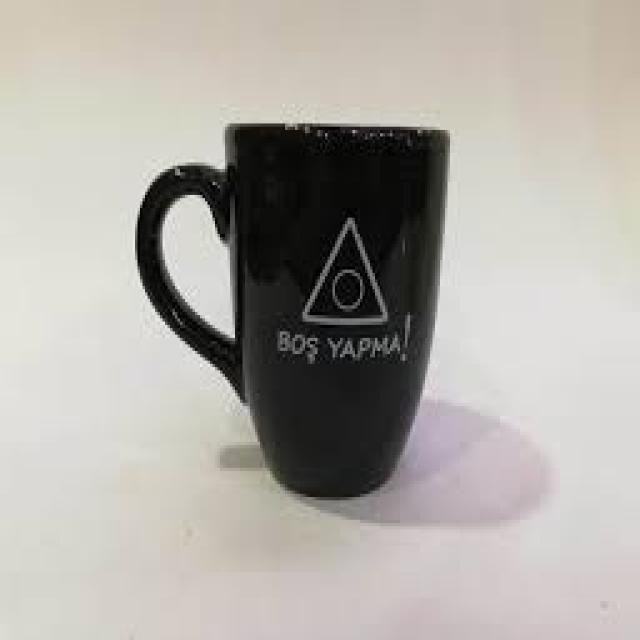taza: (134, 123, 450, 500)
